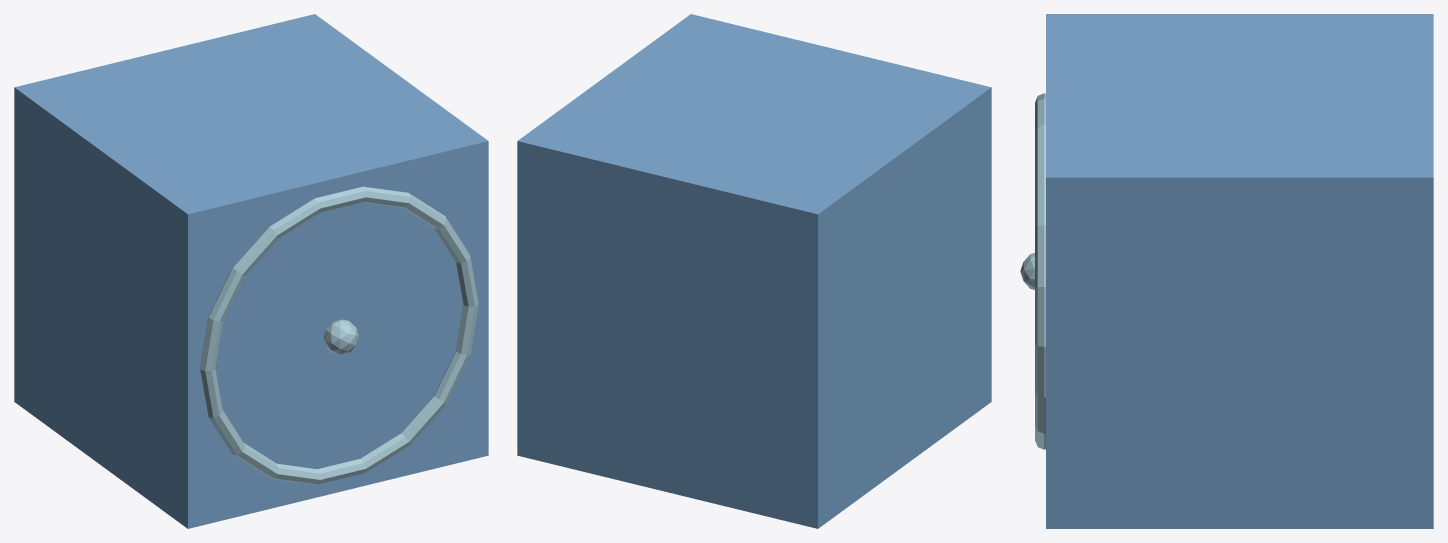
Rendered from schock.glb.
3 views of the same model, side by side, from view 1: azimuth 30°, elevation 25°; view 2: azimuth 150°, elevation 25°; view 3: azimuth 270°, elevation 25° (orthographic). The views are drawn at different scales.
Visible parts, largest first — view 1: world; view 2: world; view 3: world.
Boxes of the visible parts, x1,y1,x2,y2 form: world: (14, 14, 488, 528); world: (517, 14, 991, 528); world: (1020, 14, 1433, 528).
Size of the model in its own units: 1.05 by 1.05 by 1.12.
